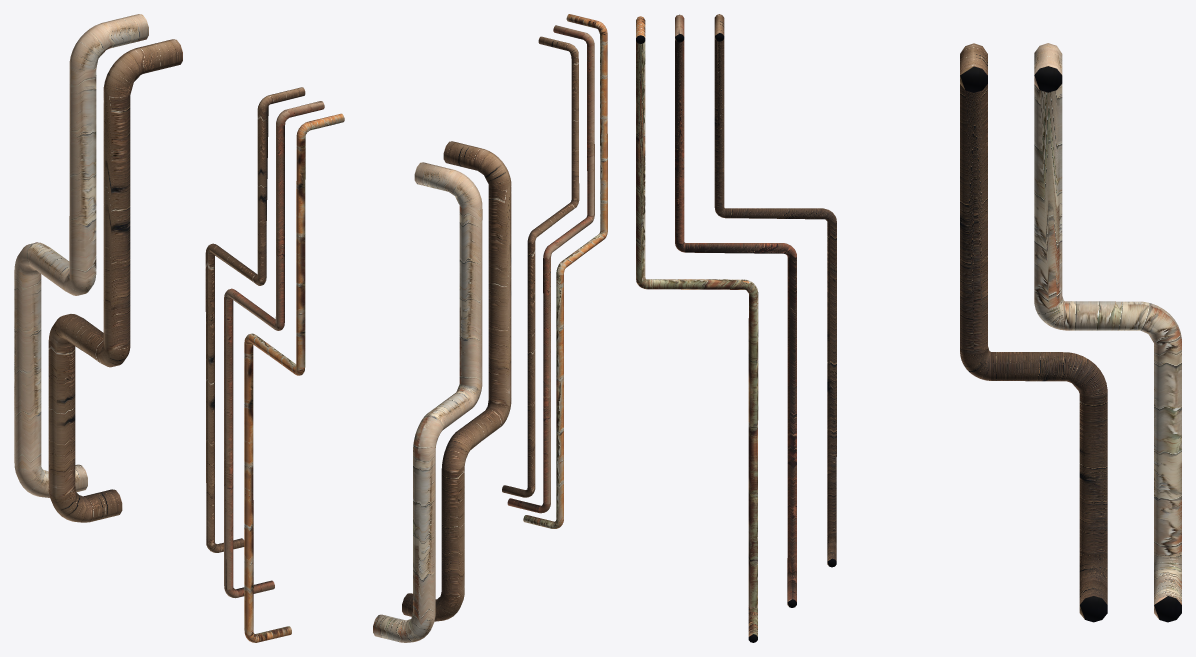
The model's file is wallPipeCombo_300.fbx.
3 views of the same model, side by side, from view 1: azimuth 30°, elevation 25°; view 2: azimuth 150°, elevation 25°; view 3: azimuth 270°, elevation 25° (orthographic). The views are drawn at different scales.
Visible parts, largest first — view 1: pipeB200, pipeA200, pipeE200, pipeD200, pipeC200, pipeA150, pipeB150, pipeC10; view 2: pipeA200, pipeB200, pipeE200, pipeD200, pipeC200, pipeA150, pipeB150; view 3: pipeA200, pipeB200, pipeE200, pipeD200, pipeC200, pipeB150, pipeA10, pipeB10, pipeC10, pipeD10.
Boxes of the visible parts, x1,y1,x2,y2 form: pipeB200: [48, 39, 182, 522]; pipeA200: [14, 14, 148, 497]; pipeE200: [244, 113, 344, 642]; pipeD200: [224, 101, 324, 598]; pipeC200: [205, 87, 305, 552]; pipeA150: [16, 26, 105, 491]; pipeB150: [51, 59, 143, 517]; pipeC10: [65, 71, 135, 515]; pipeA200: [373, 162, 482, 642]; pipeB200: [402, 141, 511, 621]; pipeE200: [523, 14, 607, 528]; pipeD200: [507, 25, 594, 513]; pipeC200: [502, 36, 579, 497]; pipeA150: [399, 172, 480, 635]; pipeB150: [435, 157, 510, 607]; pipeA200: [1034, 43, 1181, 622]; pipeB200: [960, 43, 1107, 622]; pipeE200: [636, 16, 758, 642]; pipeD200: [675, 14, 796, 607]; pipeC200: [714, 14, 836, 567]; pipeB150: [965, 90, 1107, 588]; pipeA10: [1040, 90, 1181, 588]; pipeB10: [716, 41, 836, 546]; pipeC10: [974, 47, 1107, 588]; pipeD10: [680, 244, 796, 582].
Size of the model in its own units: 0.9833 by 6.24 by 5.07.
